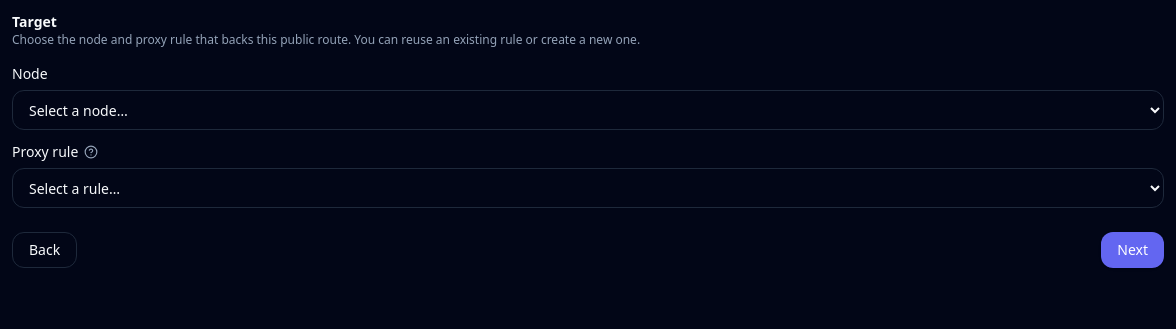
Test: StepTarget › blocks Next when node is not selected
Click the button "Next" at (1133, 250), box [1101,232,1164,268]
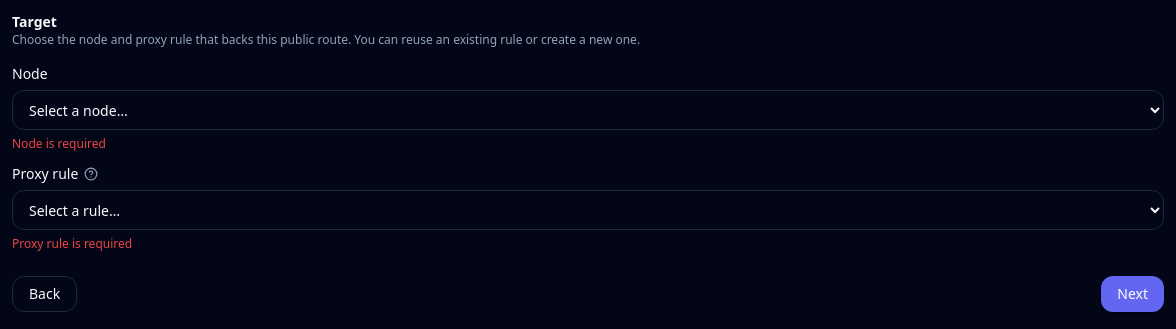
Now the text "Node is required" is shown, box [12,135,106,152]
